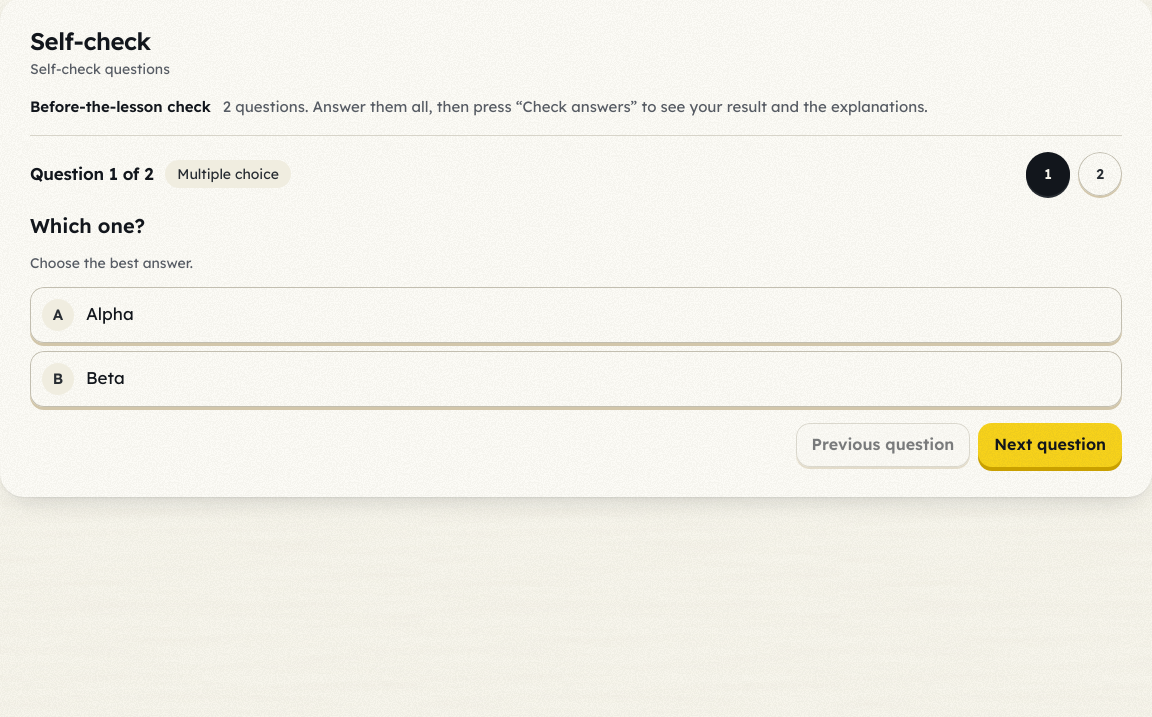
Test: QuizBlock learner view › sends every answer to the share endpoint and shows the server’s result
The image size is (1152, 717).
Click the radio button labelled "B Beta".
click(58, 379)  # box [30,351,1122,407]
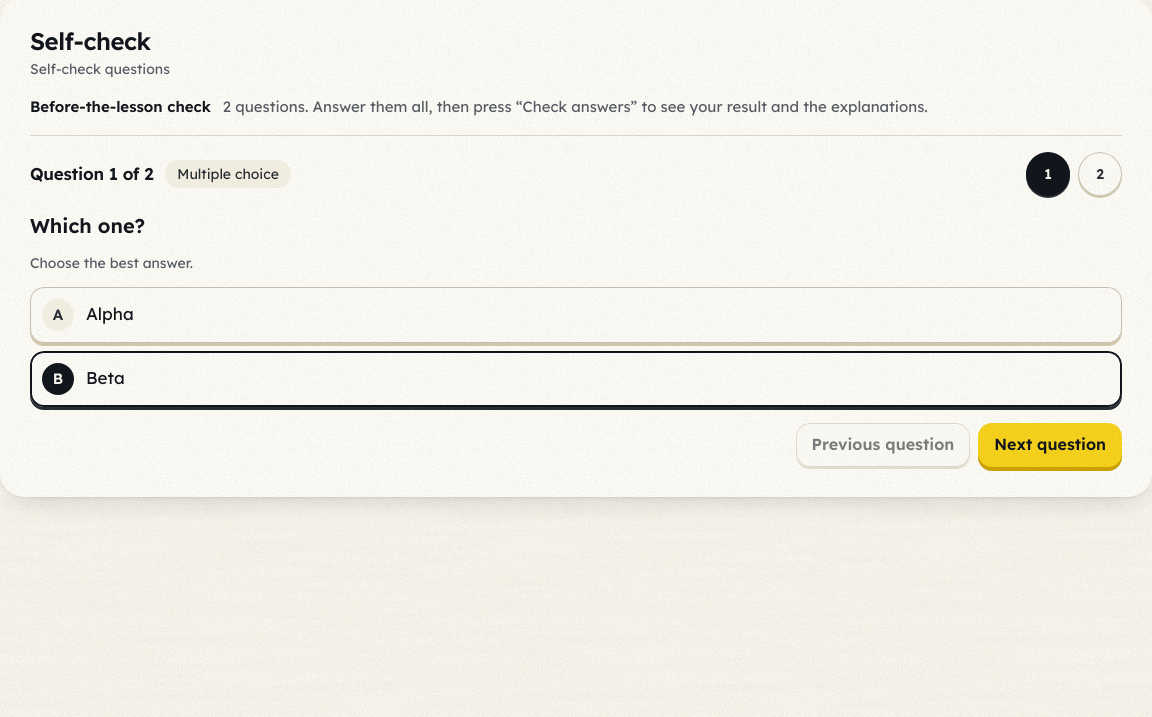
Click the button "Next question".
click(1050, 445)  # box [978,423,1122,467]
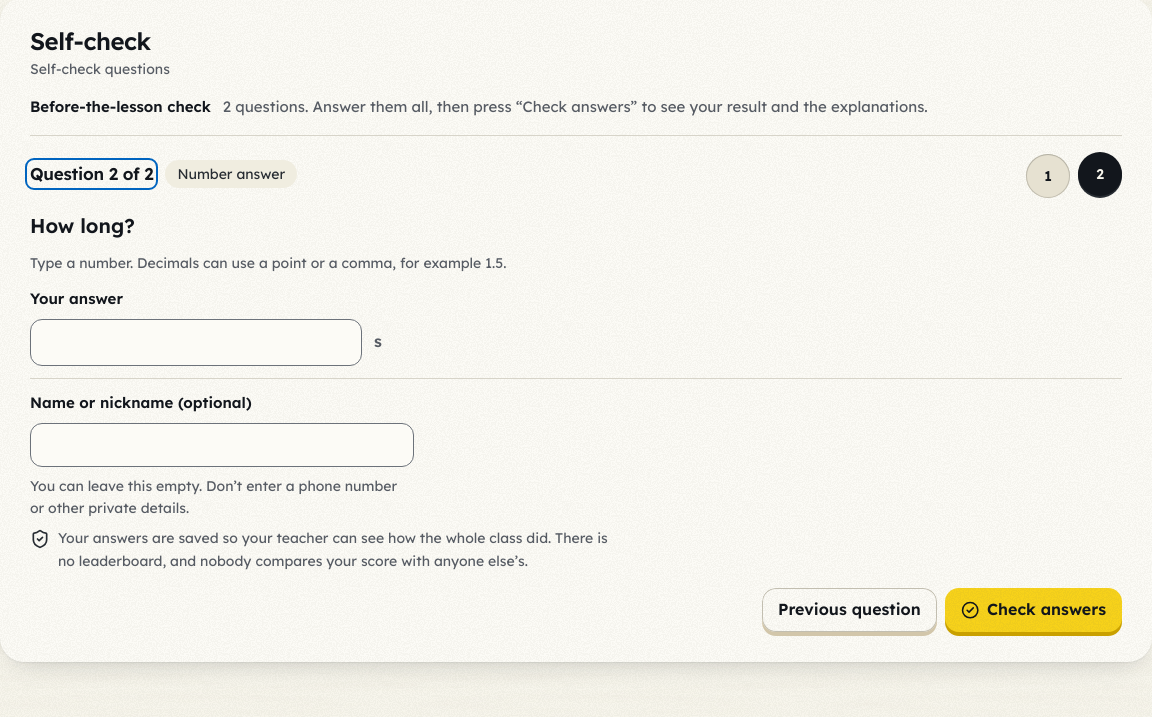
Type "2" into the field labelled "Your answer".
click(196, 342); type("2")  # box [30,319,362,366]
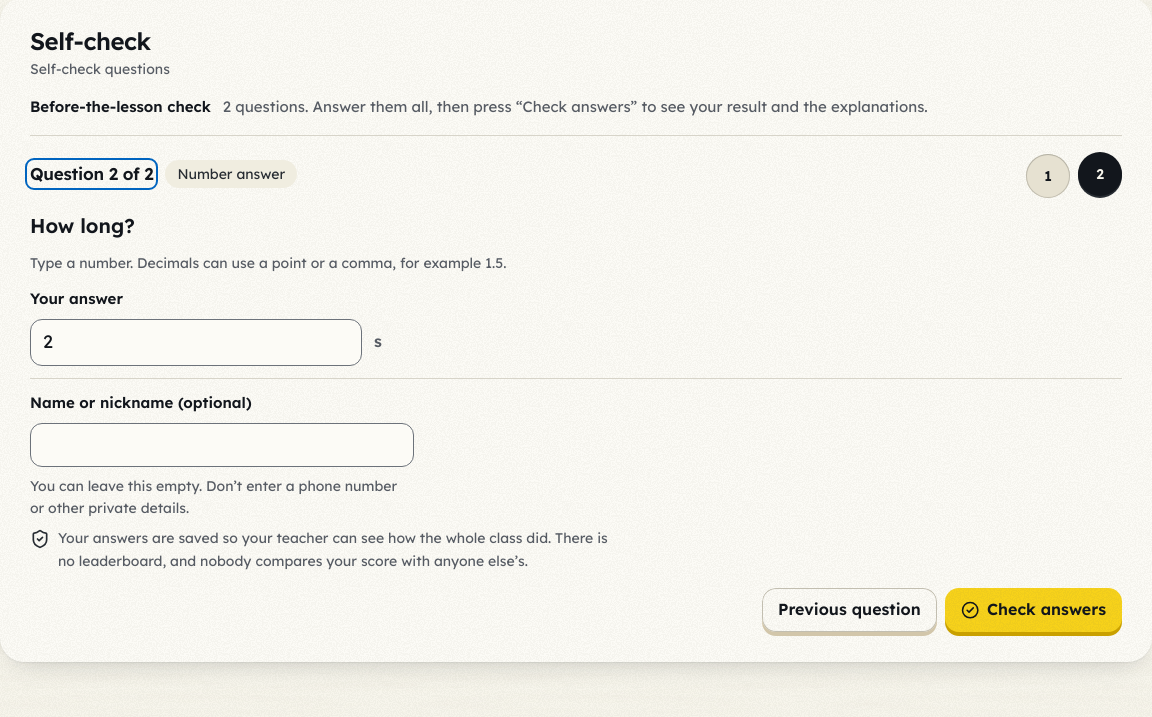
Type "  Lan   A " into the field labelled "Name or nickname (optional)".
click(222, 444); type("  Lan   A ")  # box [30,422,414,466]
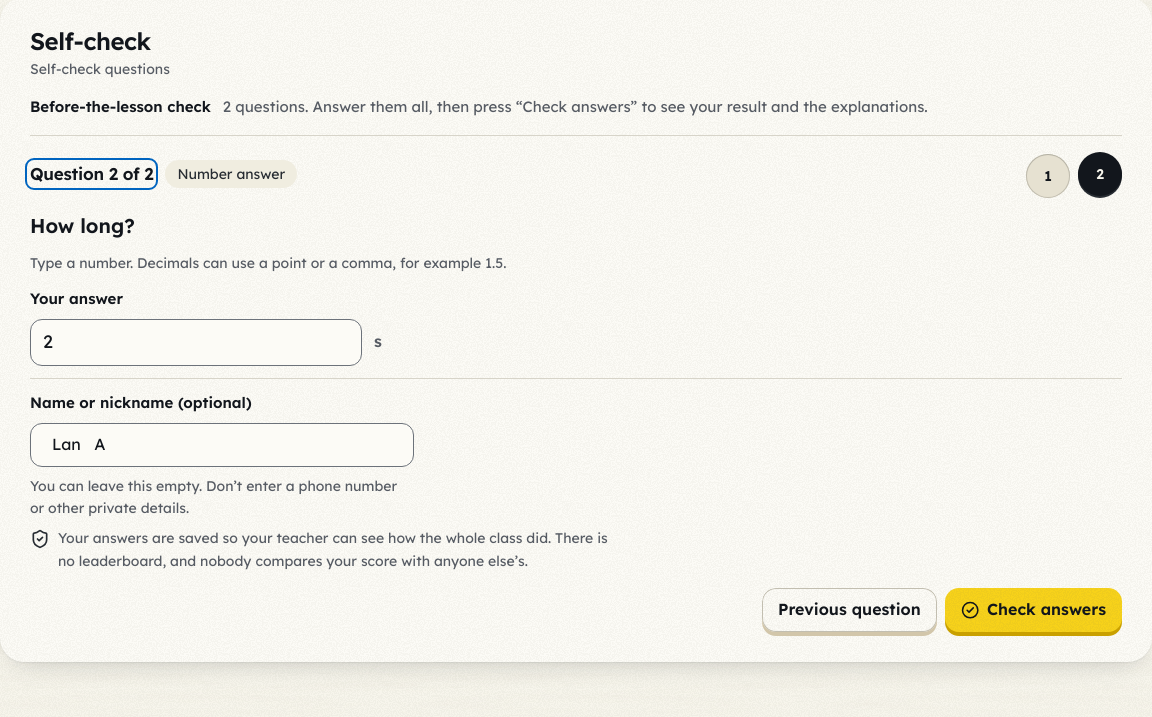
Click the button "Check answers".
click(1033, 610)  # box [945,588,1122,632]
(page scrolled)
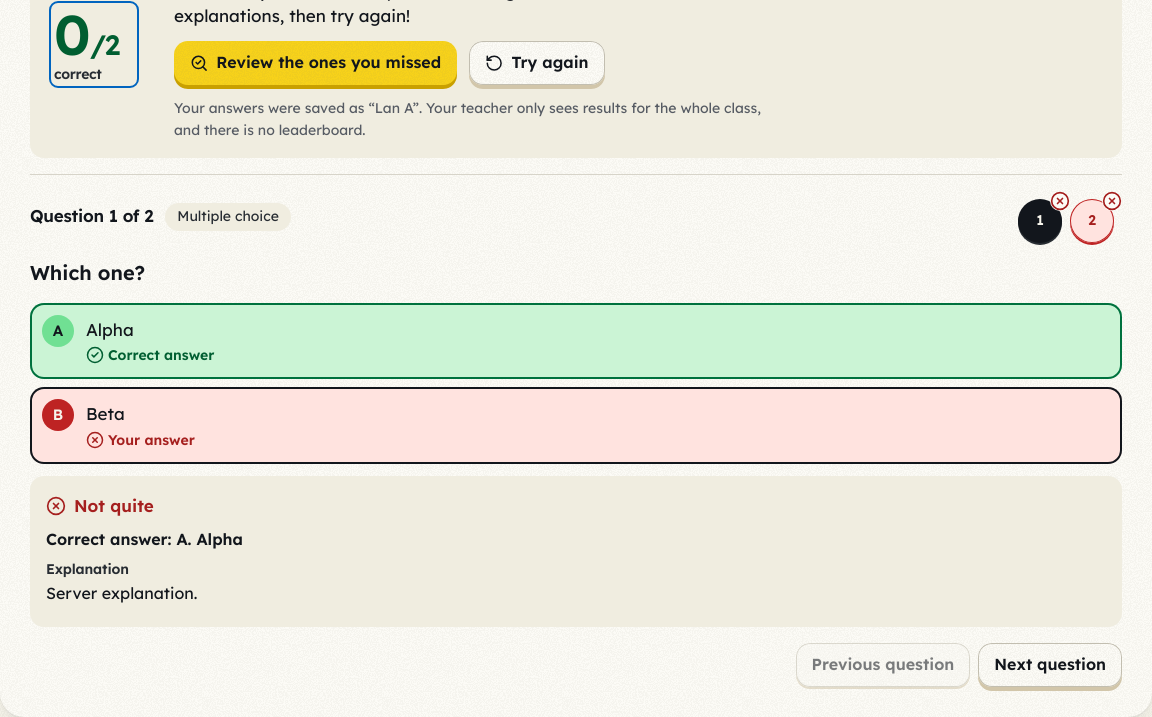
Expected: the text "Correct answer: A. Alpha" is shown, [46,529,243,549]
Expected: the text "Server explanation." is shown, [46,583,197,603]
